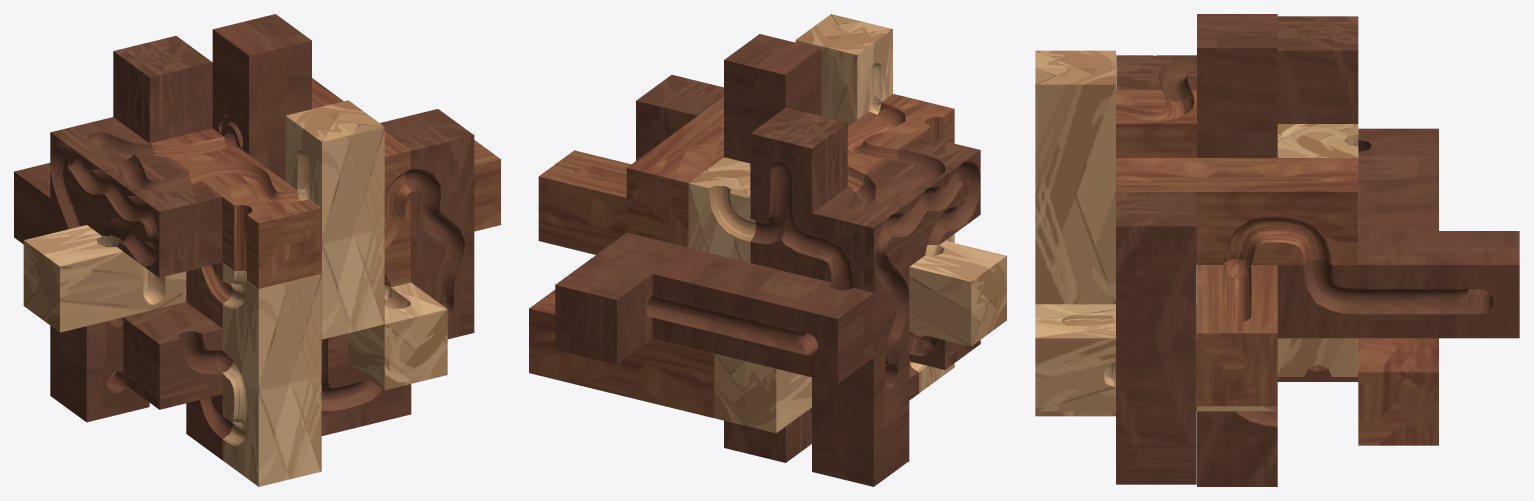
Rendered from puzzle.glb.
The picture shows the model from 3 angles, left to right: view 1: azimuth 30°, elevation 25°; view 2: azimuth 150°, elevation 25°; view 3: azimuth 270°, elevation 25°; orthographic projection. The views are drawn at different scales.
Parts seen in each view (by area): view 1: geo.020, geo.019, geo.016, geo.017, geo.015, geo.002, geo.004, geo.011, geo.007, geo.006, geo.008, geo.010 (+4 smaller); view 2: geo.018, geo.019, geo.006, geo.007, geo.014, geo.001, geo.004, geo.002, geo.013, geo.005, geo.016, geo.012 (+6 smaller); view 3: geo.014, geo.016, geo.015, geo.013, geo.002, geo.005, geo.008, geo.007, geo.001, geo.018, geo.003, geo (+5 smaller).
Boxes of the visible parts, <box> form: geo.020: <box>222,263,321,486</box>; geo.019: <box>50,117,222,277</box>; geo.016: <box>285,100,384,339</box>; geo.017: <box>150,128,321,288</box>; geo.015: <box>380,109,474,339</box>; geo.002: <box>212,14,311,181</box>; geo.004: <box>23,225,186,332</box>; geo.011: <box>123,302,348,409</box>; geo.007: <box>113,36,212,143</box>; geo.006: <box>50,198,149,422</box>; geo.008: <box>348,282,447,390</box>; geo.010: <box>186,364,411,460</box>; geo.018: <box>652,248,873,383</box>; geo.019: <box>812,135,980,292</box>; geo.006: <box>812,267,909,486</box>; geo.007: <box>750,107,847,277</box>; geo.014: <box>555,232,687,364</box>; geo.001: <box>529,289,714,418</box>; geo.004: <box>909,241,1006,346</box>; geo.002: <box>724,34,821,163</box>; geo.013: <box>626,97,723,247</box>; geo.005: <box>538,150,630,254</box>; geo.016: <box>795,14,892,126</box>; geo.012: <box>714,354,811,433</box>; geo.014: <box>1277,231,1519,338</box>; geo.016: <box>1035,50,1115,303</box>; geo.015: <box>1116,192,1196,445</box>; geo.013: <box>1116,158,1357,264</box>; geo.002: <box>1197,14,1277,157</box>; geo.005: <box>1197,259,1277,406</box>; geo.008: <box>1035,304,1277,411</box>; geo.007: <box>1277,16,1358,123</box>; geo.001: <box>1358,338,1438,445</box>; geo.018: <box>1358,128,1438,230</box>; geo.003: <box>1197,406,1277,486</box>; geo: <box>1277,124,1358,376</box>.
Size of the model in its own units: 0.2798 by 0.2398 by 0.2398.
4 materials, 4 textured.
